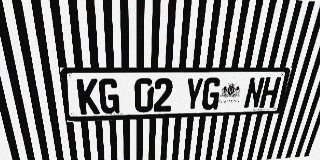0: (135, 78, 154, 113)
2: (153, 78, 173, 112)
G: (98, 78, 120, 114), (201, 77, 222, 110)
H: (259, 77, 281, 108)
K: (76, 78, 100, 114)
N: (243, 77, 265, 109)
Y: (183, 77, 204, 111)
